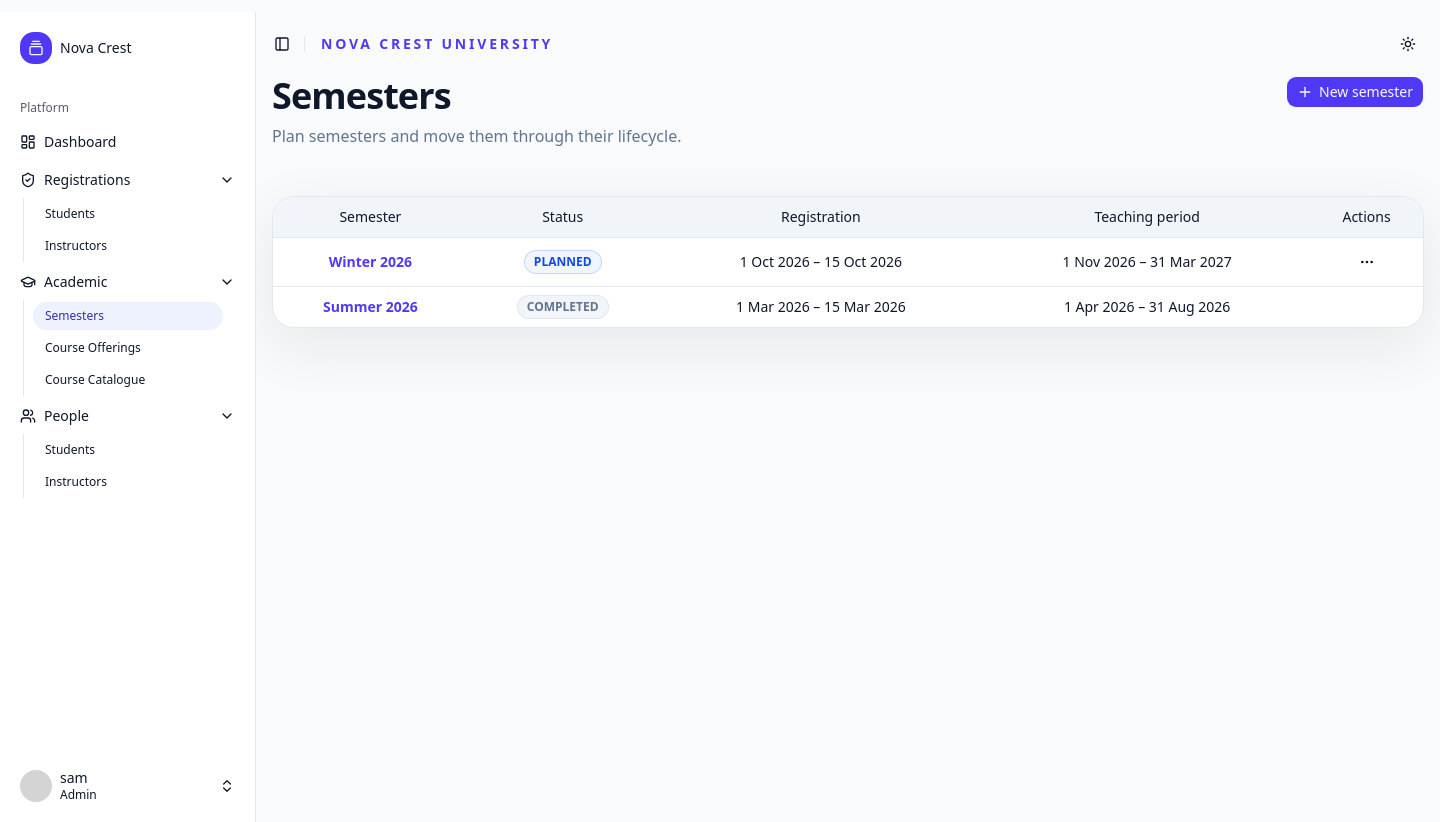
Test: SemestersView › offers only the transitions the server allows
The width and height of the screenshot is (1440, 822).
Click the button without text in the row of "Winter 2026": (1366, 262) [1350,246,1382,278]
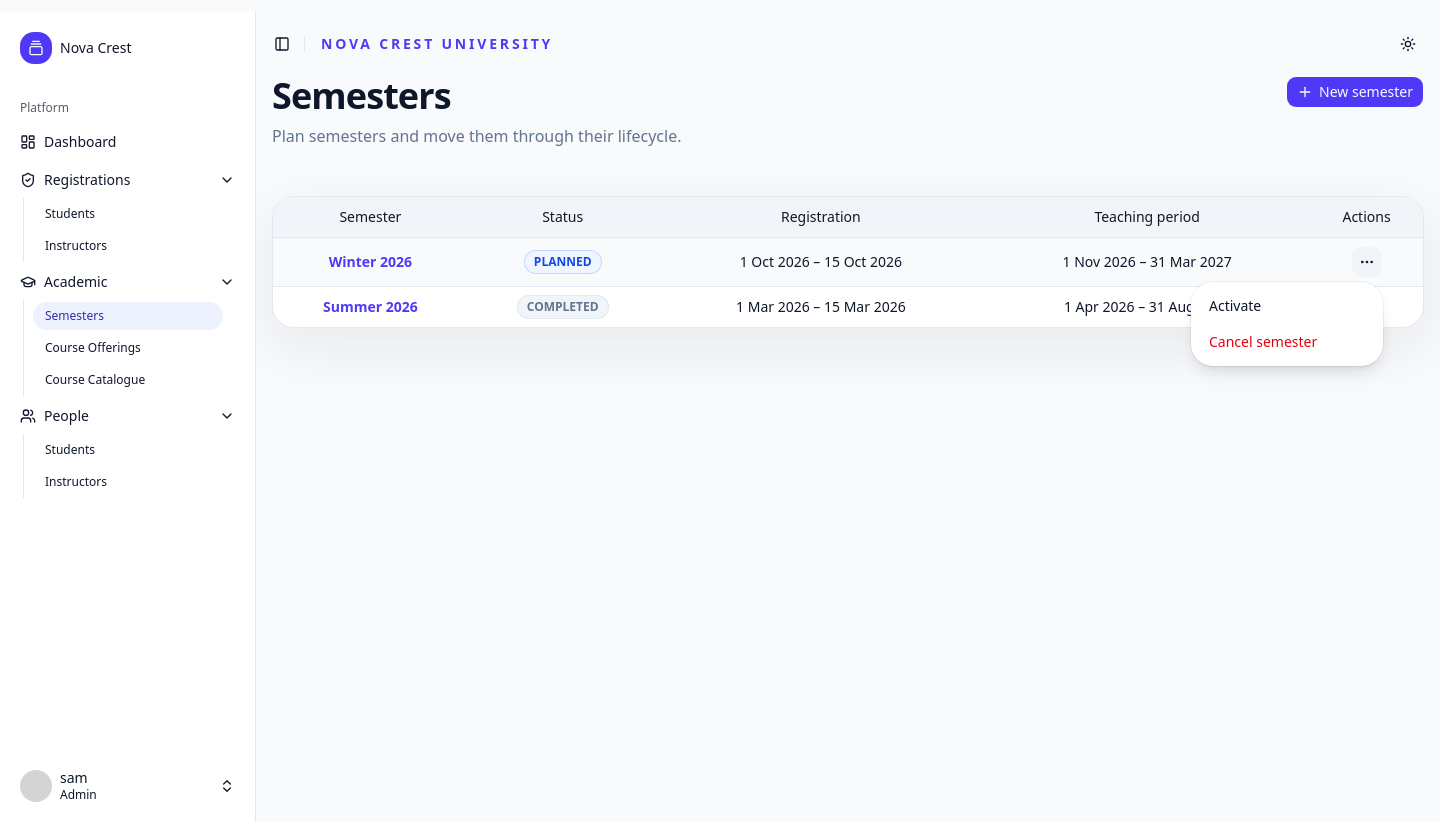
Now the menu items read "Activate", "Cancel semester", in this order, box [1209,296,1261,315]; [1209,332,1317,351]
